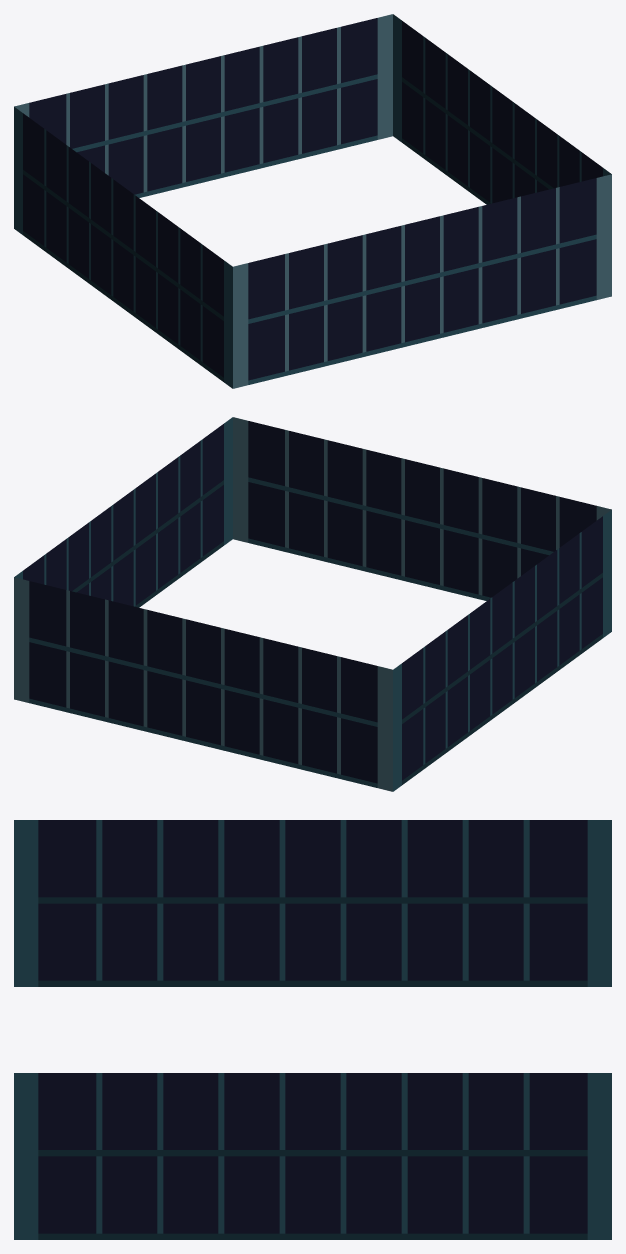
The model's file is TB_CITY_Skysc_N_UpperBodyA_Blue.FBX.
3 renders of one model, top to bottom at view 1: azimuth 30°, elevation 25°; view 2: azimuth 150°, elevation 25°; view 3: azimuth 270°, elevation 25°, orthographic. The views are drawn at different scales.
Visible parts, largest first — view 1: TB_CITY_Skysc_N_UpperBodyA_Blue; view 2: TB_CITY_Skysc_N_UpperBodyA_Blue; view 3: TB_CITY_Skysc_N_UpperBodyA_Blue.
Part boxes in pixels (x1,y1,x2,y2): TB_CITY_Skysc_N_UpperBodyA_Blue: (14, 14, 611, 388); TB_CITY_Skysc_N_UpperBodyA_Blue: (14, 417, 611, 791); TB_CITY_Skysc_N_UpperBodyA_Blue: (14, 820, 611, 1239).
Bounding box in the file's own units: 14.94 × 4.6 × 14.94.
